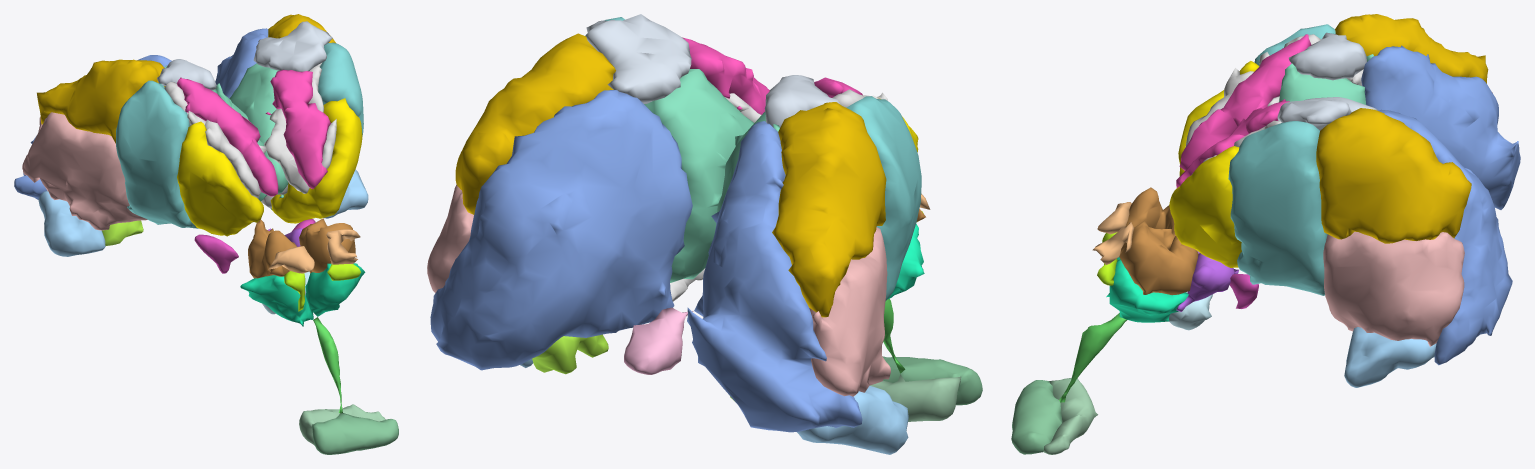
The model's file is diencephalon.lod1.glb.
3 renders of one model, left to right at view 1: azimuth 30°, elevation 25°; view 2: azimuth 150°, elevation 25°; view 3: azimuth 270°, elevation 25°, orthographic. The views are drawn at different scales.
Parts seen in each view (by area): view 1: ventral-lateral-thalamic-nucleus-r, ventral-posterolateral-thalamic-nucleus-r, ventral-anterior-thalamic-nucleus-r, lateral-posterior-thalamic-nucleus-r, ventral-anterior-thalamic-nucleus-l, anterior-thalamic-nucleus-l, anterior-thalamic-nucleus-r, adenohypophysis, lateral-dorsal-thalamic-nucleus-l, lateral-geniculate-body-r, dorsomedial-thalamic-nucleus-l, internal-medullary-lamina-l (+19 smaller); view 2: pulvinar-l, pulvinar-r, lateral-posterior-thalamic-nucleus-r, lateral-posterior-thalamic-nucleus-l, dorsomedial-thalamic-nucleus-l, ventral-posterolateral-thalamic-nucleus-r, ventral-lateral-thalamic-nucleus-r, lateral-dorsal-thalamic-nucleus-l, lateral-geniculate-body-r, pineal-body, anterior-thalamic-nucleus-l, neurohypophysis (+7 smaller); view 3: lateral-posterior-thalamic-nucleus-l, ventral-lateral-thalamic-nucleus-l, ventral-posterolateral-thalamic-nucleus-l, pulvinar-r, pulvinar-l, ventral-anterior-thalamic-nucleus-l, anterior-thalamic-nucleus-r, lateral-posterior-thalamic-nucleus-r, superior-tuberal-hypothalamus-l, lateral-geniculate-body-l, adenohypophysis, lateral-dorsal-thalamic-nucleus-r (+15 smaller).
Boxes of the visible parts, x1,y1,x2,y2 form: ventral-lateral-thalamic-nucleus-r: [116, 80, 198, 228]; ventral-posterolateral-thalamic-nucleus-r: [22, 112, 147, 230]; ventral-anterior-thalamic-nucleus-r: [177, 121, 263, 236]; lateral-posterior-thalamic-nucleus-r: [37, 59, 165, 143]; ventral-anterior-thalamic-nucleus-l: [270, 98, 362, 223]; anterior-thalamic-nucleus-l: [265, 69, 330, 188]; anterior-thalamic-nucleus-r: [177, 77, 278, 196]; adenohypophysis: [312, 413, 398, 454]; lateral-dorsal-thalamic-nucleus-l: [253, 21, 332, 71]; lateral-geniculate-body-r: [38, 191, 105, 256]; dorsomedial-thalamic-nucleus-l: [229, 63, 288, 198]; internal-medullary-lamina-l: [261, 63, 336, 208]; pulvinar-l: [430, 90, 692, 370]; pulvinar-r: [687, 121, 862, 432]; lateral-posterior-thalamic-nucleus-r: [772, 102, 886, 317]; lateral-posterior-thalamic-nucleus-l: [455, 33, 615, 214]; dorsomedial-thalamic-nucleus-l: [644, 69, 753, 282]; ventral-posterolateral-thalamic-nucleus-r: [809, 227, 890, 396]; ventral-lateral-thalamic-nucleus-r: [846, 96, 921, 301]; lateral-dorsal-thalamic-nucleus-l: [586, 14, 691, 103]; lateral-geniculate-body-r: [797, 385, 908, 454]; pineal-body: [624, 307, 693, 374]; anterior-thalamic-nucleus-l: [682, 37, 769, 114]; neurohypophysis: [870, 374, 961, 421]; lateral-posterior-thalamic-nucleus-l: [1316, 108, 1471, 243]; ventral-lateral-thalamic-nucleus-l: [1228, 121, 1327, 295]; ventral-posterolateral-thalamic-nucleus-l: [1323, 231, 1464, 346]; pulvinar-r: [1361, 45, 1520, 209]; pulvinar-l: [1378, 109, 1512, 365]; ventral-anterior-thalamic-nucleus-l: [1169, 146, 1241, 267]; anterior-thalamic-nucleus-r: [1179, 34, 1311, 170]; lateral-posterior-thalamic-nucleus-r: [1335, 14, 1488, 83]; superior-tuberal-hypothalamus-l: [1119, 220, 1198, 295]; lateral-geniculate-body-l: [1344, 327, 1436, 387]; adenohypophysis: [1011, 380, 1062, 454]; lateral-dorsal-thalamic-nucleus-r: [1288, 32, 1366, 80].
Size of the model in its own units: 0.0479 by 0.0477 by 0.0573.
